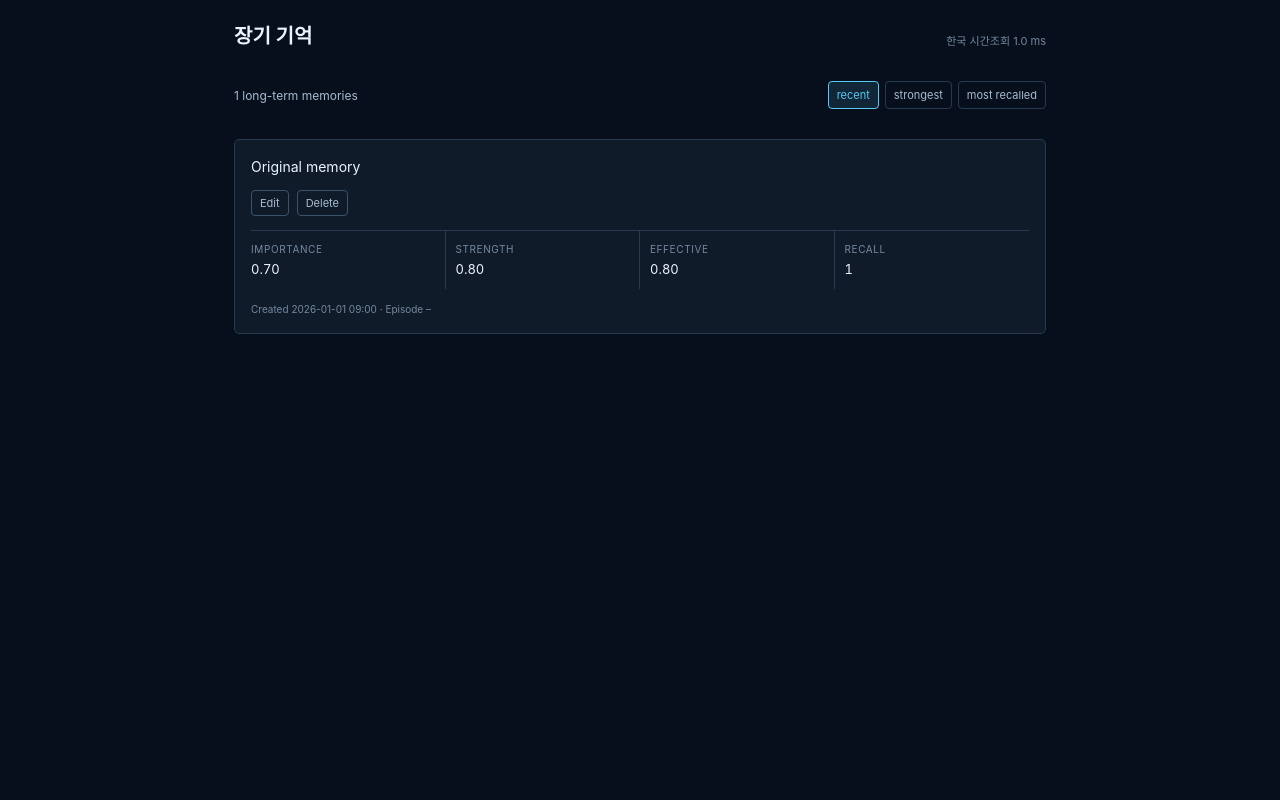
it: Observation corrections › keeps a memory visible when its correction fails
Expected: the text "Original memory" is shown, [251, 158, 360, 175]
Click the button "Edit": point(270, 203) [251, 190, 289, 216]
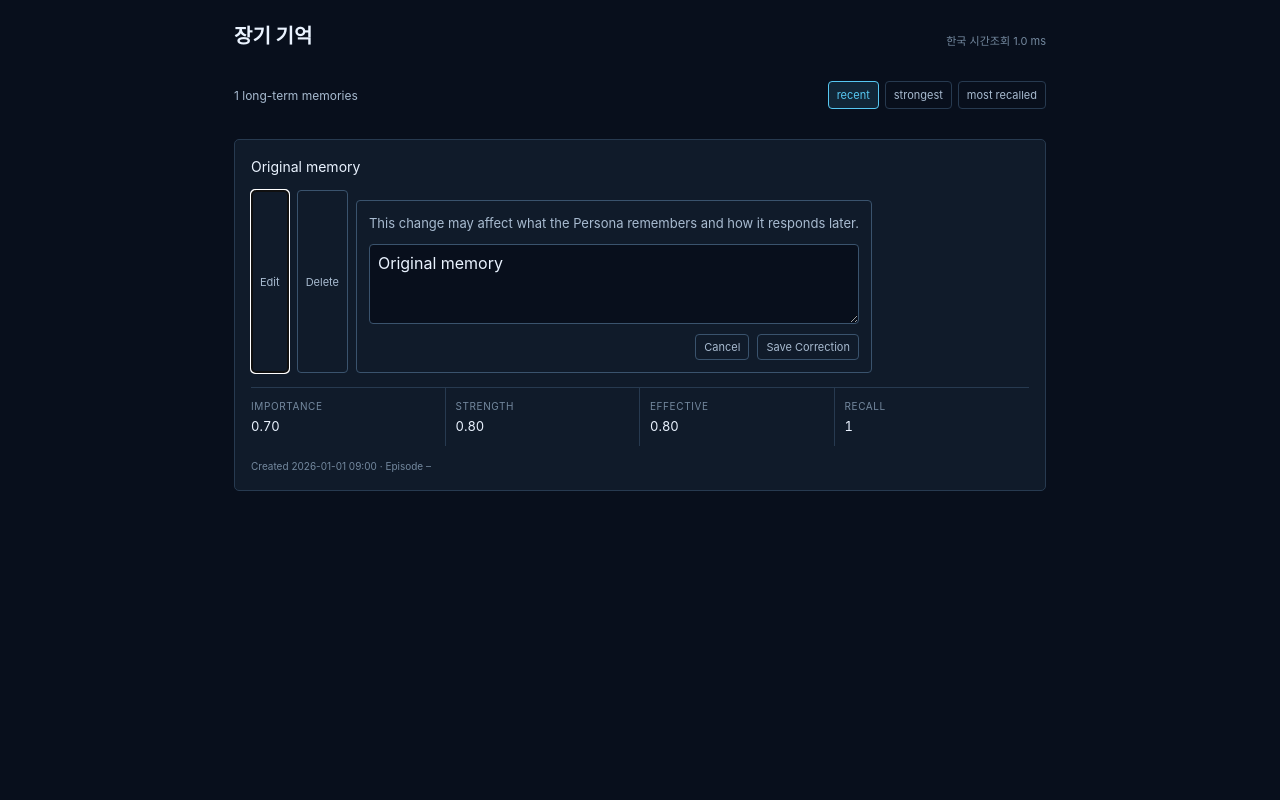
Click the button "Save Correction": point(808, 347) [757, 334, 859, 360]
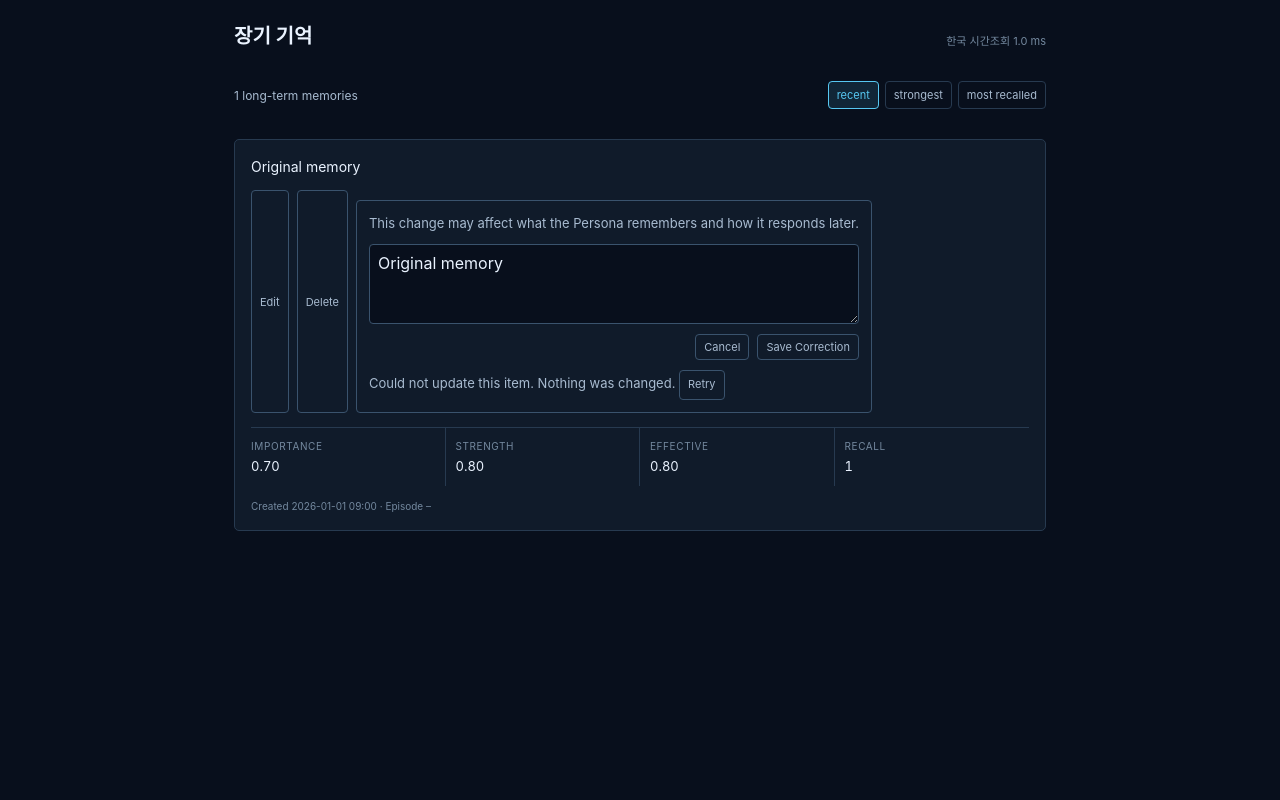
Expected: the text "Original memory" is shown, [251, 158, 360, 175]
Now the text "Could not update this item. Nothing was changed. Retry" is shown, box [369, 370, 724, 400]
